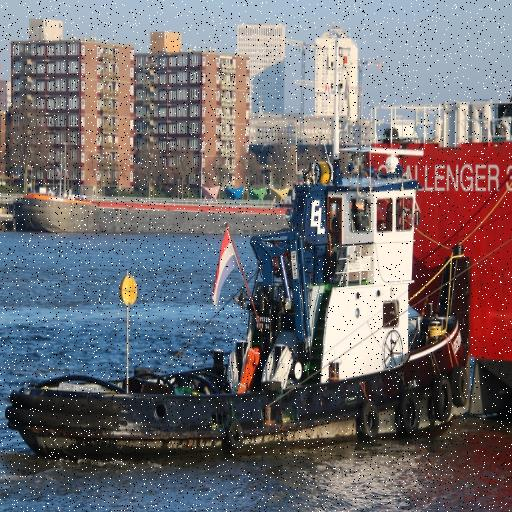tugboat: (3, 142, 479, 475)
